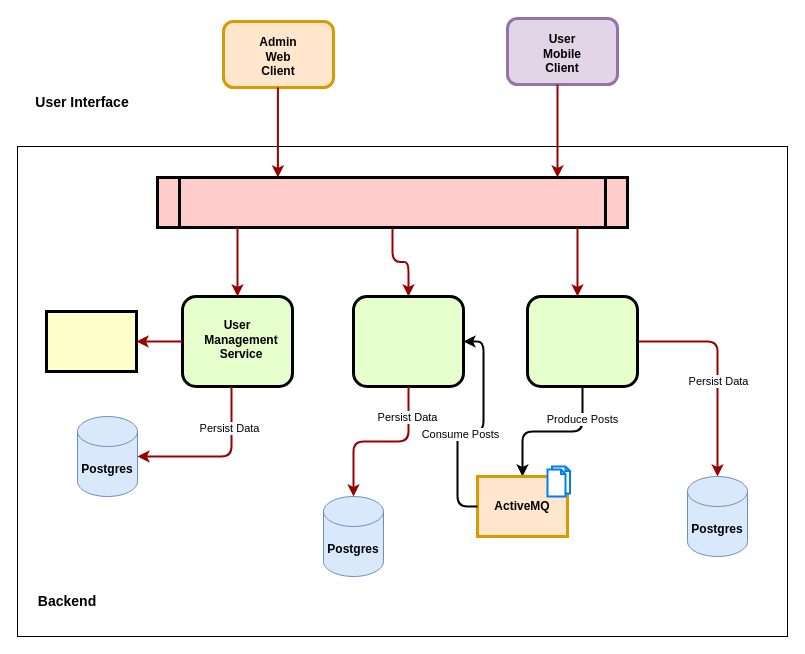
Image size: 805x654. Some labels were removed from this diagram. The shapes that lost their labels are listed below. From the top down, each one's box as (x1, y1, x2, y2) in pixels, then its label:
(156, 176, 628, 228): API Service
(44, 310, 138, 372): Keycloa IAM
(352, 294, 464, 388): Content Moderation Service
(526, 294, 638, 388): Social Networking Service
